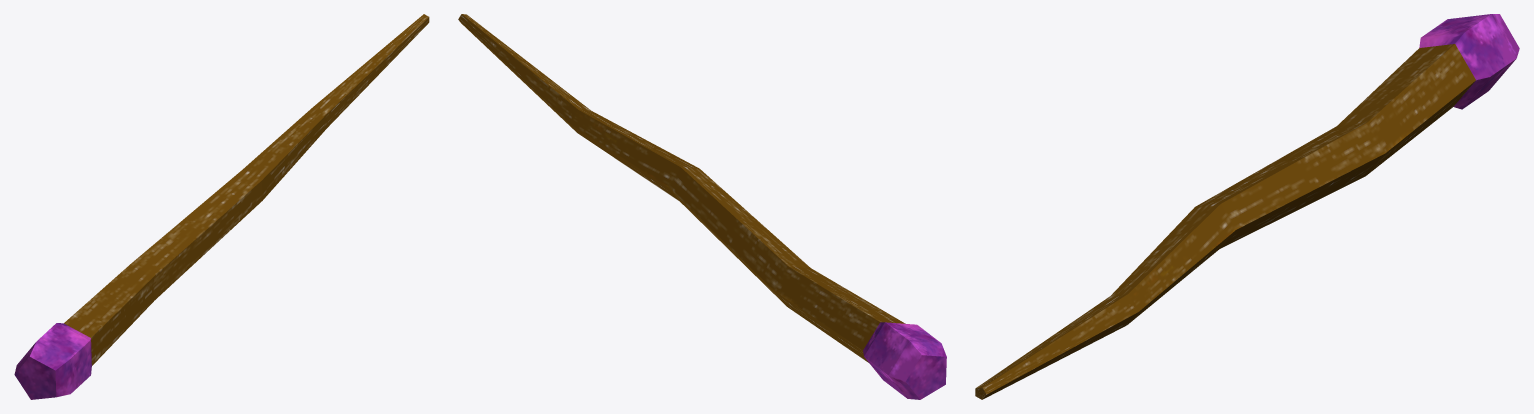
The model's file is Varita.obj.
3 views of the same model, side by side, from view 1: azimuth 90°, elevation 25°; view 2: azimuth 150°, elevation 25°; view 3: azimuth 270°, elevation 25° (orthographic). The views are drawn at different scales.
Parts seen in each view (by area): view 1: varita.001; view 2: varita.001; view 3: varita.001.
Part boxes in pixels (bbox=[...]): varita.001: bbox=[14, 14, 429, 399]; varita.001: bbox=[458, 14, 946, 399]; varita.001: bbox=[975, 14, 1519, 399].
Size of the model in its own units: 2.38 by 0.2737 by 1.31.
Materials: 2 (2 with a texture image).
